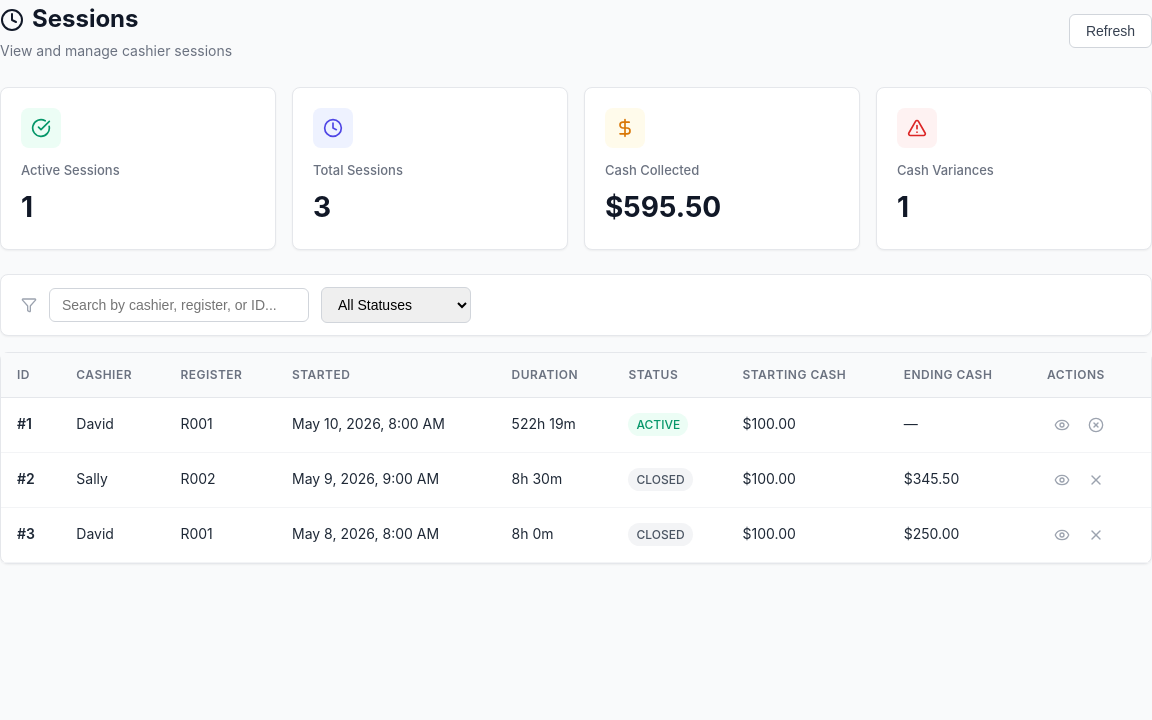
Scenario: Sessions › opens close session dialog for active sessions
Check: the text "David" in the row of "May 10, 2026, 8:00 AM" is shown, box x1=76 y1=415 x2=114 y2=432
Click the button titled "Close session": x=1096, y=425 x1=1081 y1=410 x2=1111 y2=440
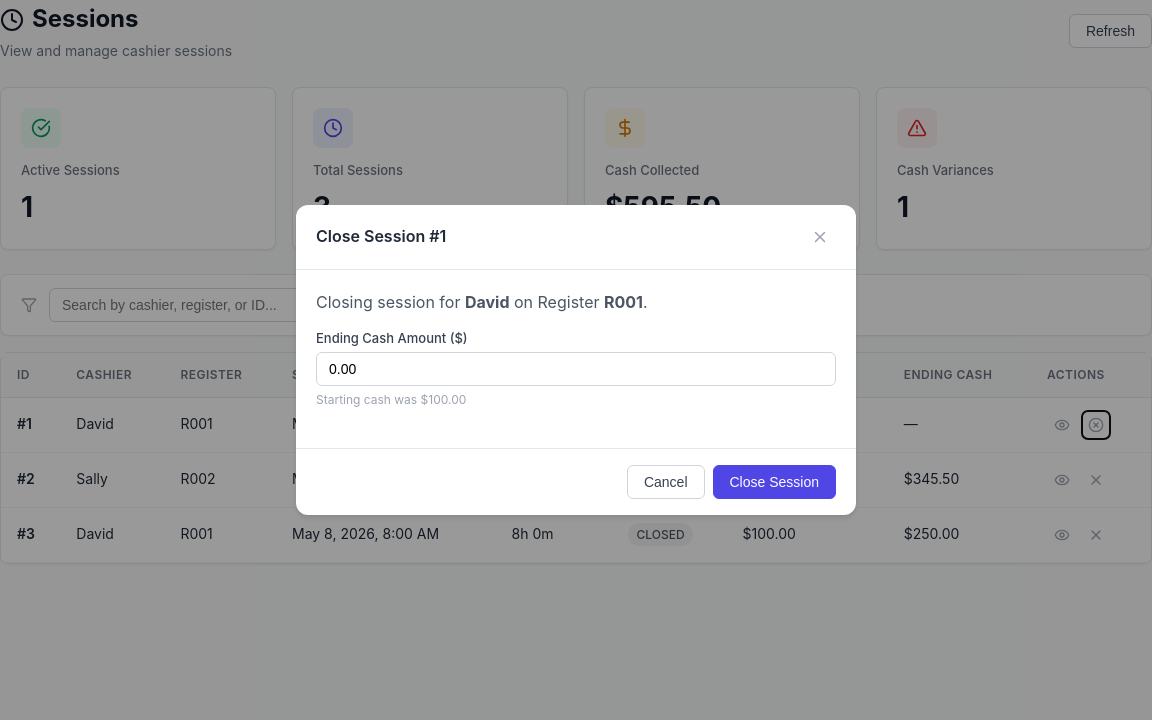
Check: the text "Closing session for David on Register R001." is shown, box x1=316 y1=292 x2=648 y2=312
Check: the heading "Close Session #1" is shown, box x1=316 y1=224 x2=446 y2=250
